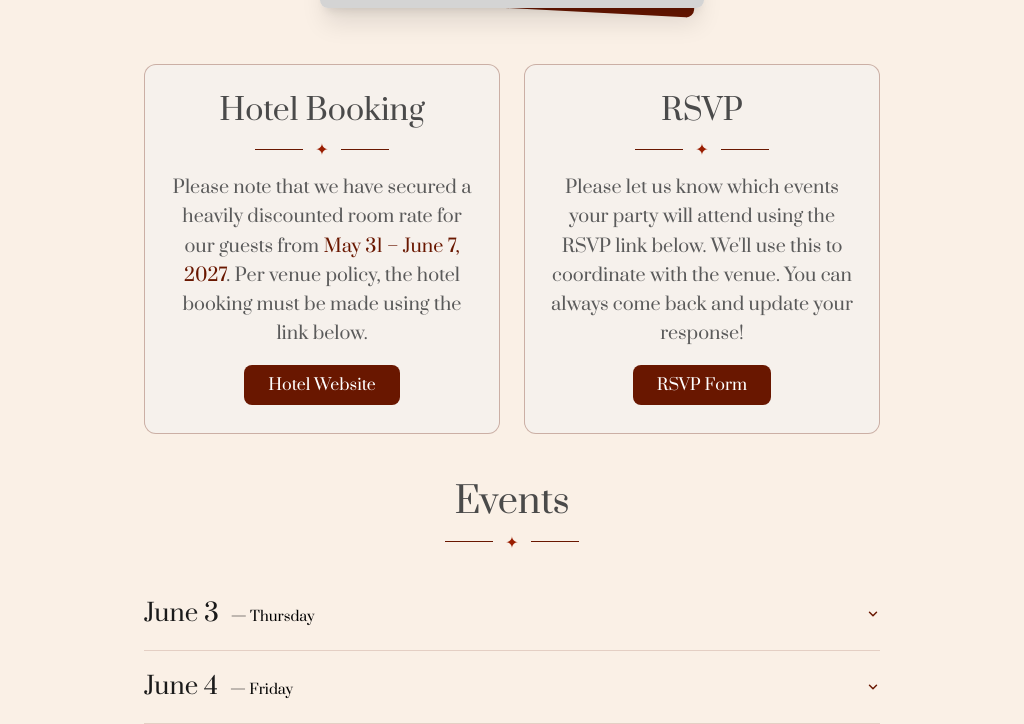
RSVP modal — open and close › shows the name form when RSVP Form is clicked
(page scrolled)
Click the button "RSVP Form" at (702,384), box [633,364,771,404]
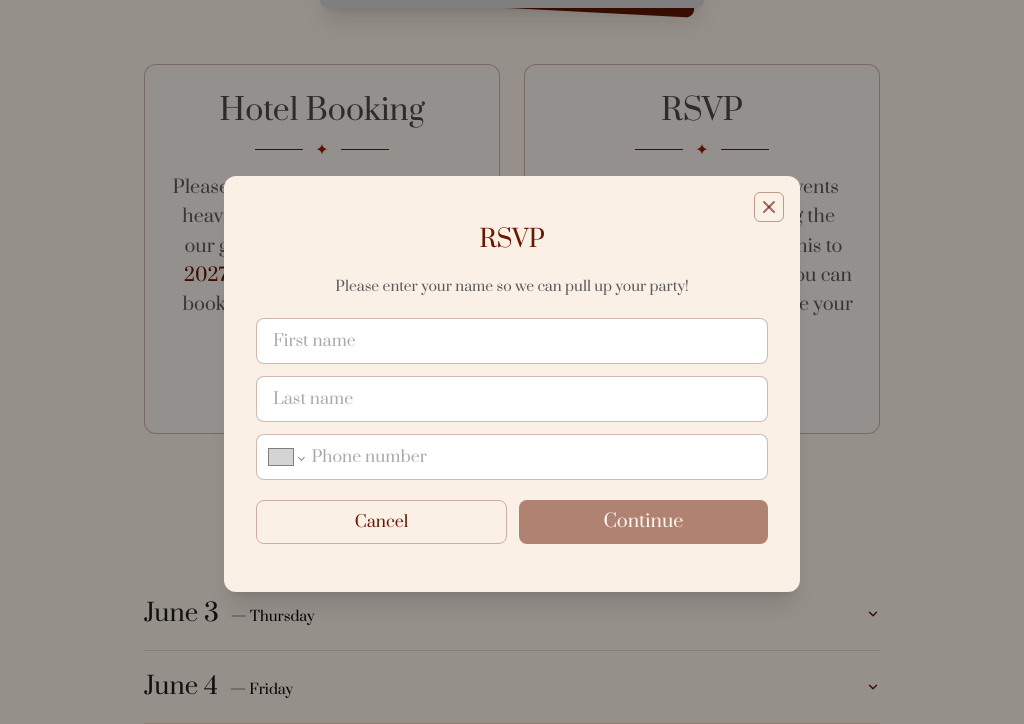
Check: the field with placeholder "First name" is shown, box [256,318,768,364]
Check: the field with placeholder "Last name" is shown, box [256,376,768,422]
Check: the field with placeholder "Phone number" is shown, box [311,435,755,479]
